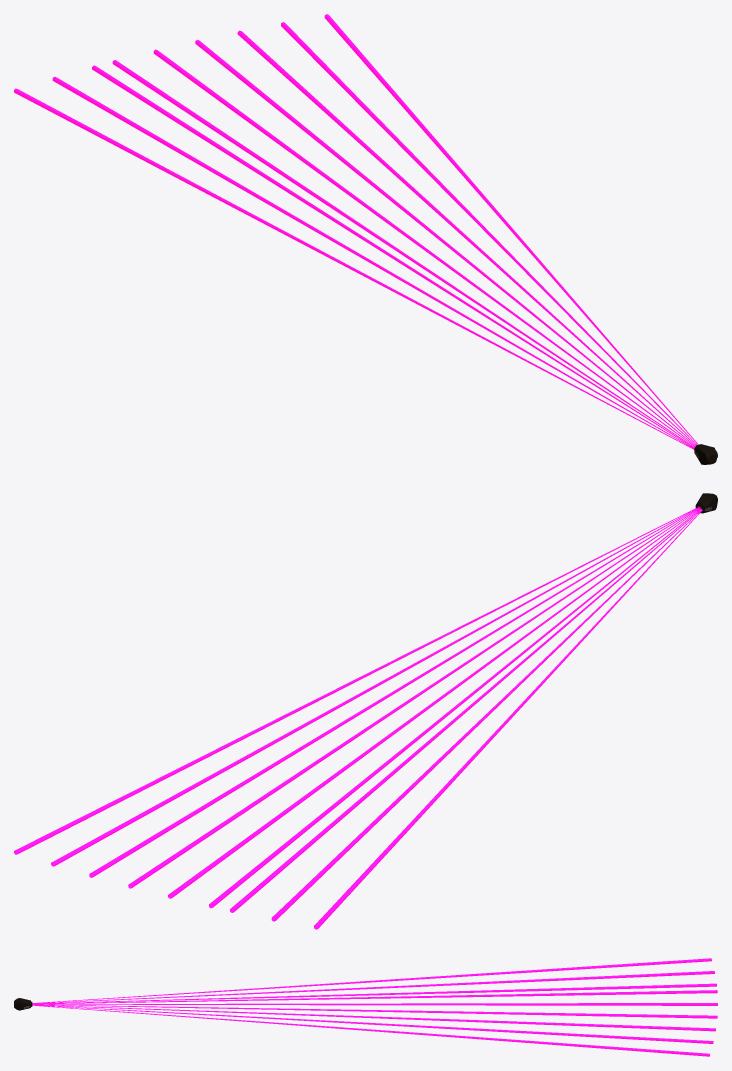
Rendered from LIH0210003.fbx.
The picture shows the model from 3 angles, top to bottom: view 1: azimuth 30°, elevation 25°; view 2: azimuth 150°, elevation 25°; view 3: azimuth 270°, elevation 25°; orthographic projection. The views are drawn at different scales.
Visible parts, largest first — view 1: smLIH0210003; view 2: smLIH0210003; view 3: smLIH0210003.
Part boxes in pixels (x1,y1,x2,y2): smLIH0210003: [14, 14, 717, 464]; smLIH0210003: [14, 493, 717, 929]; smLIH0210003: [14, 958, 717, 1056].
Bounding box in the file's own units: 1070 × 45 × 3294.
1 material, 1 textured.
